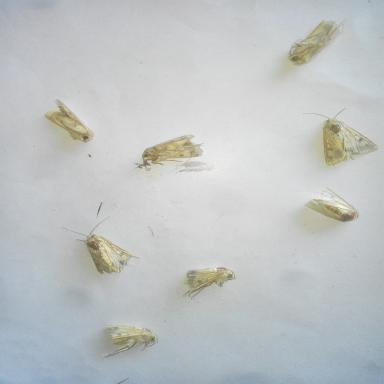abw: (54, 212, 148, 280), (291, 104, 381, 172), (283, 13, 354, 70), (134, 130, 213, 174), (170, 259, 246, 304), (38, 95, 98, 147), (293, 184, 365, 227), (94, 322, 165, 360)
